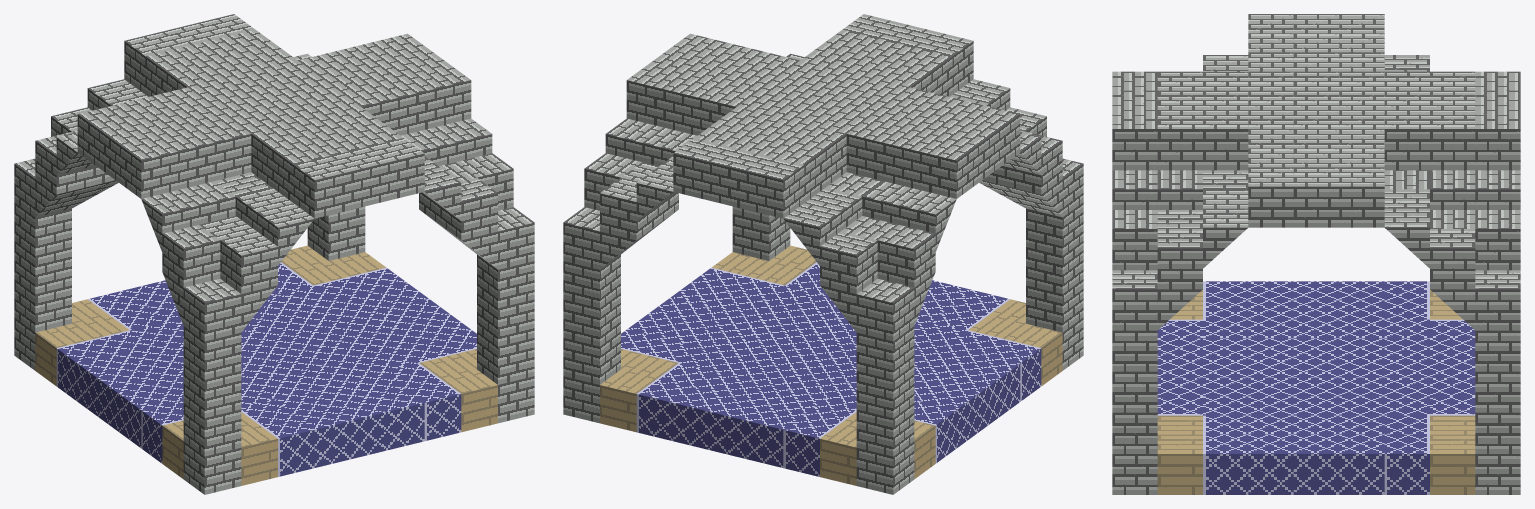
File: corridor +.fbx
3 renders of one model, left to right at view 1: azimuth 30°, elevation 25°; view 2: azimuth 150°, elevation 25°; view 3: azimuth 270°, elevation 25°, orthographic. The views are drawn at different scales.
Parts seen in each view (by area): view 1: corridor +; view 2: corridor +; view 3: corridor +.
Part boxes in pixels (left/top/right/bottom): corridor +: left=14, top=14, right=534, bottom=494; corridor +: left=563, top=14, right=1083, bottom=494; corridor +: left=1112, top=14, right=1520, bottom=494.
Size of the model in its own units: 9 by 7.5 by 9.
Materials: 1 (1 with a texture image).
